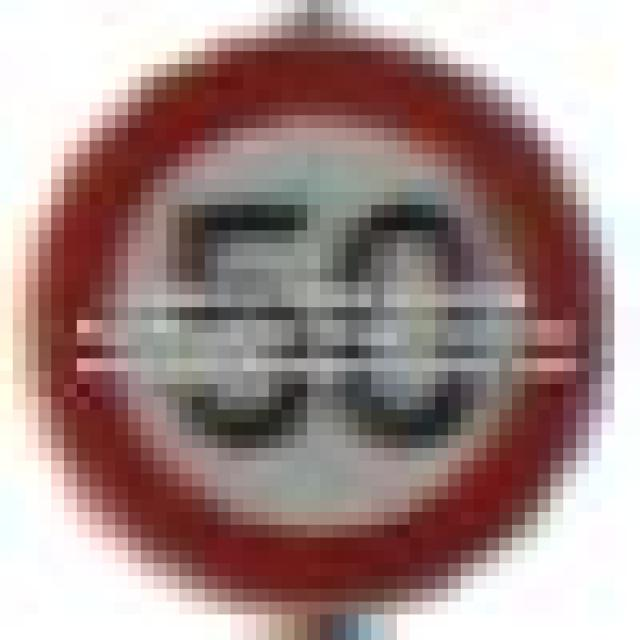SPEED_LIMIT_50: (26, 38, 602, 614)
